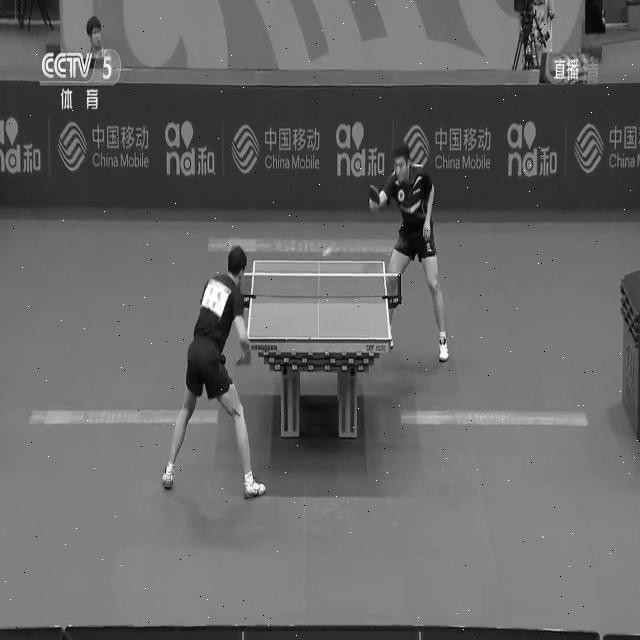ping-pong-ball: (320, 242, 335, 260)
